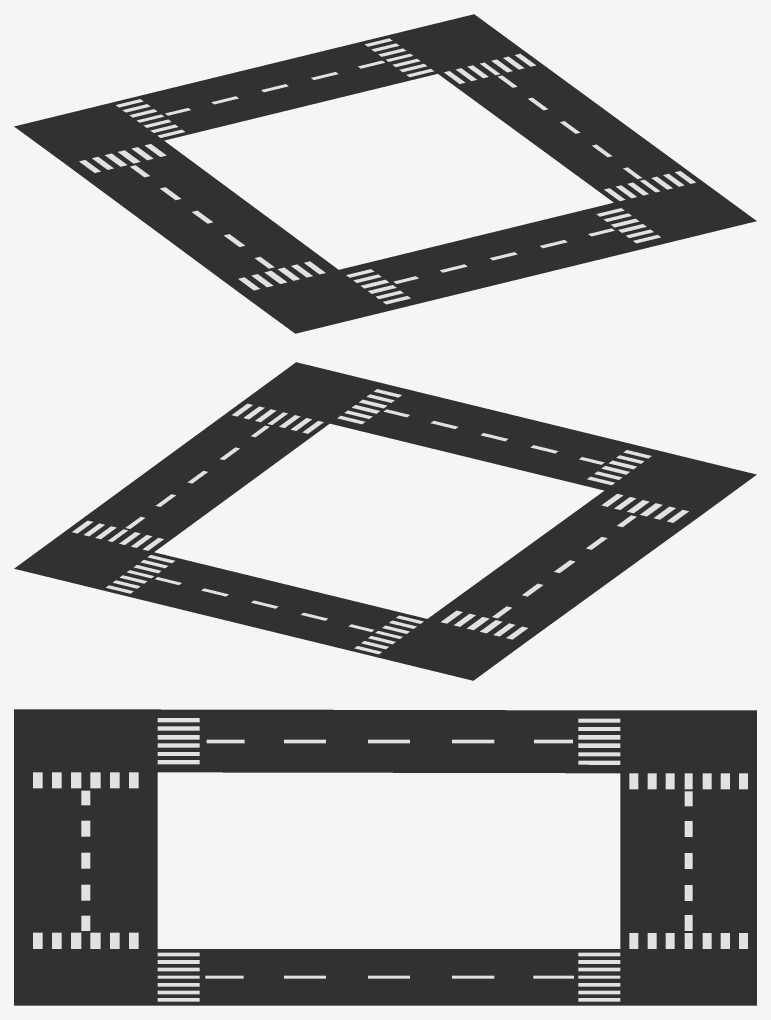
The model's file is Road.fbx.
3 views of the same model, one above another, from view 1: azimuth 30°, elevation 25°; view 2: azimuth 150°, elevation 25°; view 3: azimuth 270°, elevation 25° (orthographic). The views are drawn at different scales.
Parts seen in each view (by area): view 1: Plane; view 2: Plane; view 3: Plane.
Boxes of the visible parts, x1=… form: Plane: x1=14, y1=14, x2=756, y2=333; Plane: x1=14, y1=362, x2=756, y2=680; Plane: x1=14, y1=709, x2=756, y2=1005.
Size of the model in its own units: 12308 by 0 by 13056.
